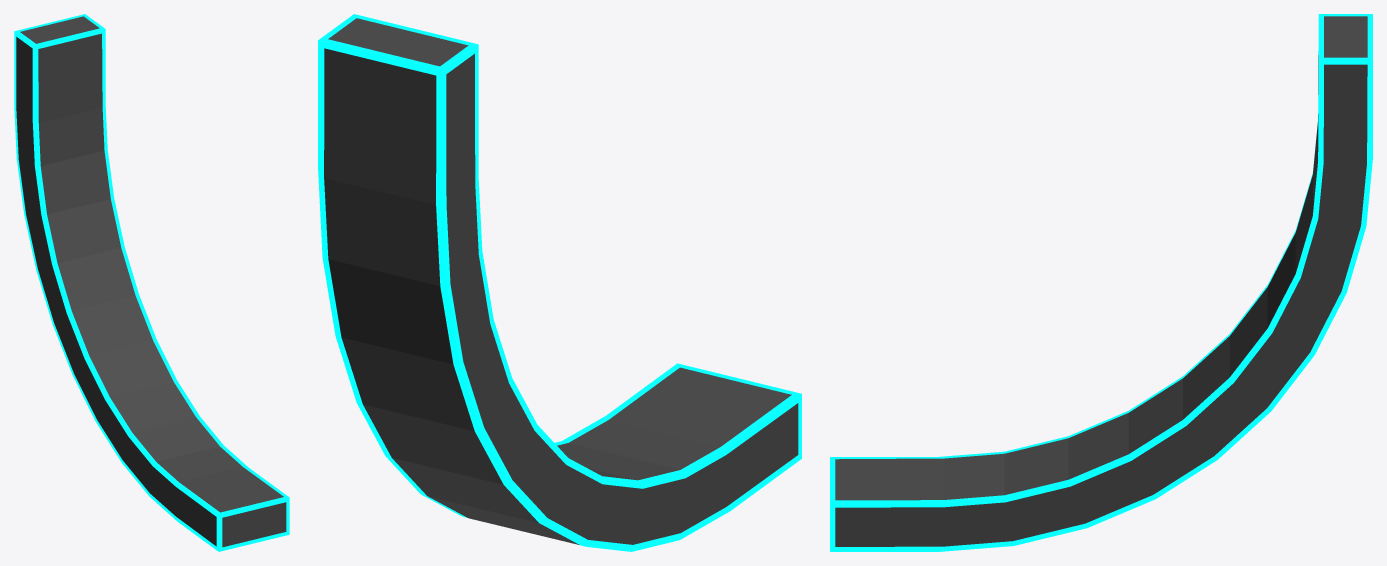
Rendered from TestCurve.fbx.
3 renders of one model, left to right at view 1: azimuth 30°, elevation 25°; view 2: azimuth 150°, elevation 25°; view 3: azimuth 270°, elevation 25°, orthographic. The views are drawn at different scales.
Visible parts, largest first — view 1: Cube; view 2: Cube; view 3: Cube.
Part boxes in pixels (<box>): Cube: <box>14,14,289,551</box>; Cube: <box>318,14,801,551</box>; Cube: <box>830,14,1372,551</box>.
Bounding box in the file's own units: 200 × 1000 × 1000.
